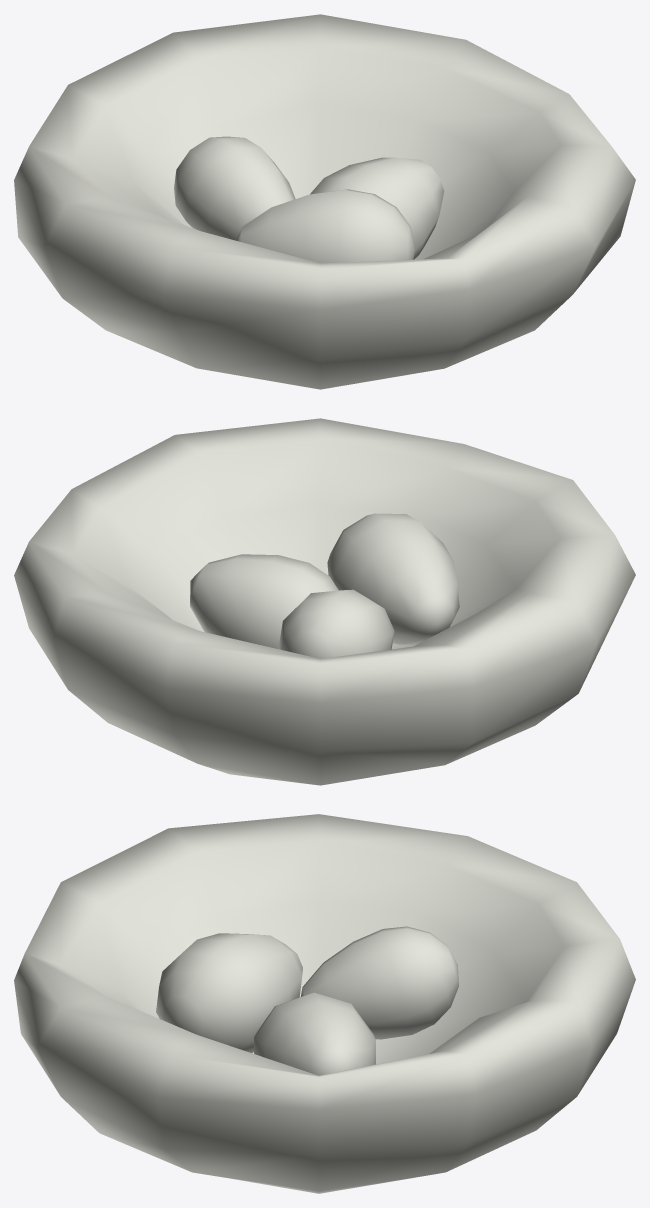
Rendered from Nest 1.fbx.
The picture shows the model from 3 angles, top to bottom: view 1: azimuth 30°, elevation 25°; view 2: azimuth 150°, elevation 25°; view 3: azimuth 270°, elevation 25°; orthographic projection. The views are drawn at different scales.
Visible parts, largest first — view 1: node_id55, node_id53, node_id57; view 2: node_id55, node_id53, node_id57; view 3: node_id55, node_id53, node_id57.
Boxes of the visible parts, x1,y1,x2,y2 form: node_id55: (14, 14, 635, 389); node_id53: (174, 136, 415, 263); node_id57: (310, 157, 444, 259); node_id55: (14, 418, 635, 785); node_id53: (278, 513, 459, 658); node_id57: (190, 554, 338, 648); node_id55: (14, 814, 635, 1193); node_id53: (156, 926, 458, 1053); node_id57: (254, 992, 375, 1075).
Size of the model in its own units: 0.512 by 0.1681 by 0.5025.
Materials: 3 (3 with a texture image).
